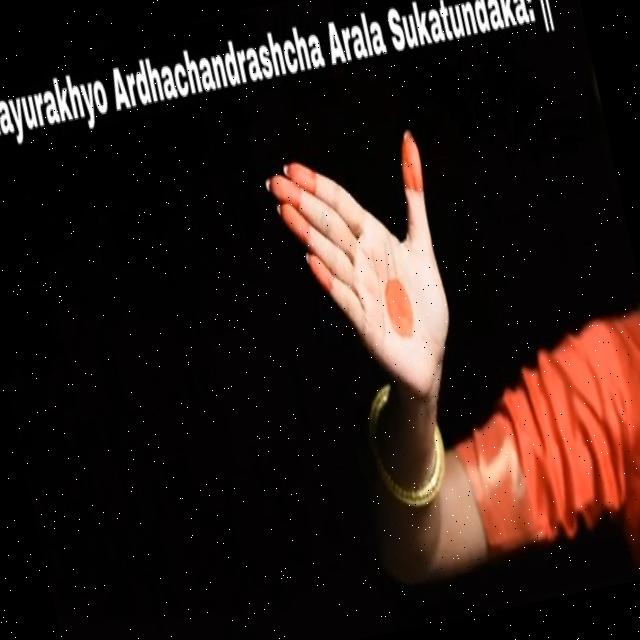Ardhachandra: (231, 68, 506, 458)
bangle: (352, 389, 462, 527)
text: (0, 0, 565, 165)
